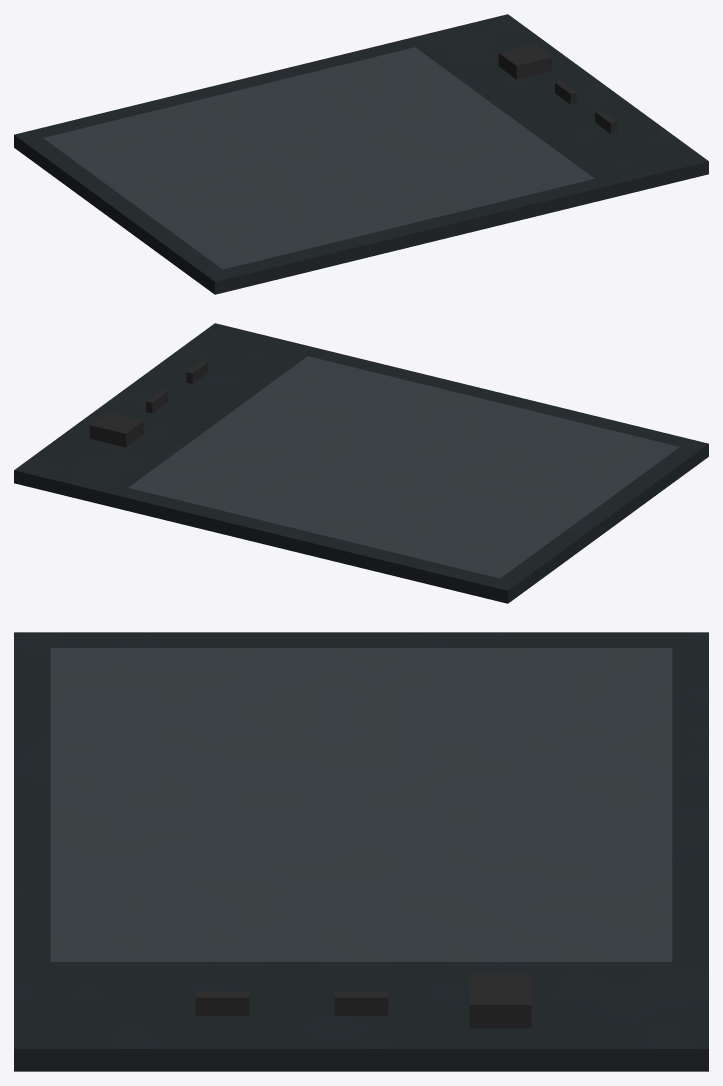
Rendered from Drawing_Tablet_02.fbx.
The picture shows the model from 3 angles, top to bottom: view 1: azimuth 30°, elevation 25°; view 2: azimuth 150°, elevation 25°; view 3: azimuth 270°, elevation 25°; orthographic projection. The views are drawn at different scales.
Visible parts, largest first — view 1: Drawing_Tablet_02; view 2: Drawing_Tablet_02; view 3: Drawing_Tablet_02.
Boxes of the visible parts, x1,y1,x2,y2 form: Drawing_Tablet_02: [14, 14, 708, 294]; Drawing_Tablet_02: [14, 323, 708, 603]; Drawing_Tablet_02: [14, 632, 708, 1071].
Size of the model in its own units: 0.6951 by 0.0358 by 0.4899.
